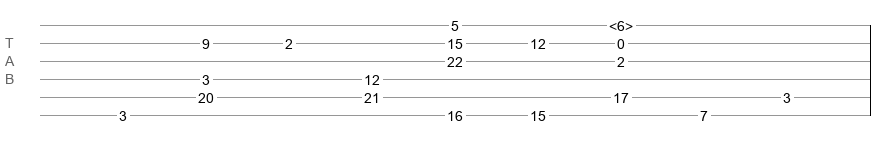0: (617, 36, 625, 46)
12: (364, 72, 380, 82), (530, 36, 546, 46)
15: (447, 36, 463, 46), (530, 108, 546, 118)
16: (447, 108, 463, 118)
17: (613, 90, 629, 100)
2: (285, 36, 293, 46), (617, 54, 625, 64)
20: (198, 90, 214, 100)
21: (364, 90, 380, 100)
22: (447, 54, 463, 64)
3: (119, 108, 127, 118), (202, 72, 210, 82), (783, 90, 791, 100)
5: (451, 18, 459, 28)
7: (700, 108, 708, 118)
9: (202, 36, 210, 46)
harmonic: (609, 18, 633, 28)
